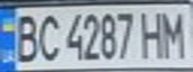2: (78, 9, 100, 61)
4: (60, 9, 84, 61)
7: (115, 8, 139, 60)
8: (100, 9, 121, 61)
B: (9, 10, 42, 63)
C: (33, 10, 63, 62)
H: (136, 7, 169, 60)
M: (157, 7, 190, 60)
